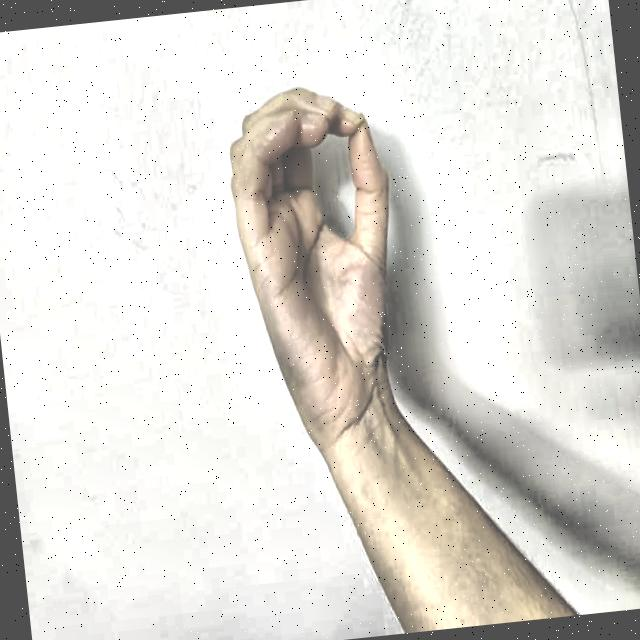O: (200, 54, 454, 462)
